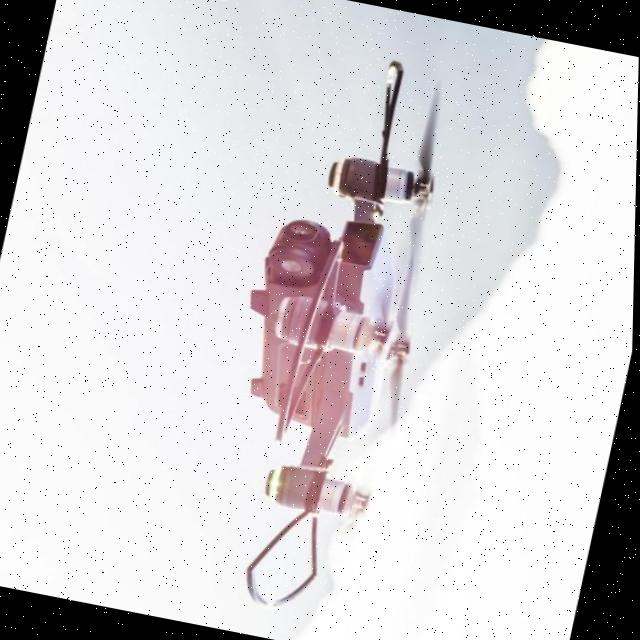drones: (148, 34, 521, 640)
